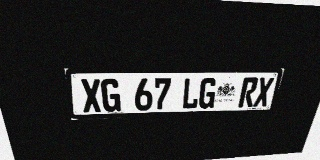6: (135, 78, 153, 111)
7: (153, 78, 171, 110)
G: (100, 79, 121, 112), (198, 78, 218, 109)
L: (181, 78, 201, 109)
R: (238, 77, 259, 107)
X: (80, 79, 102, 113), (253, 77, 274, 107)
